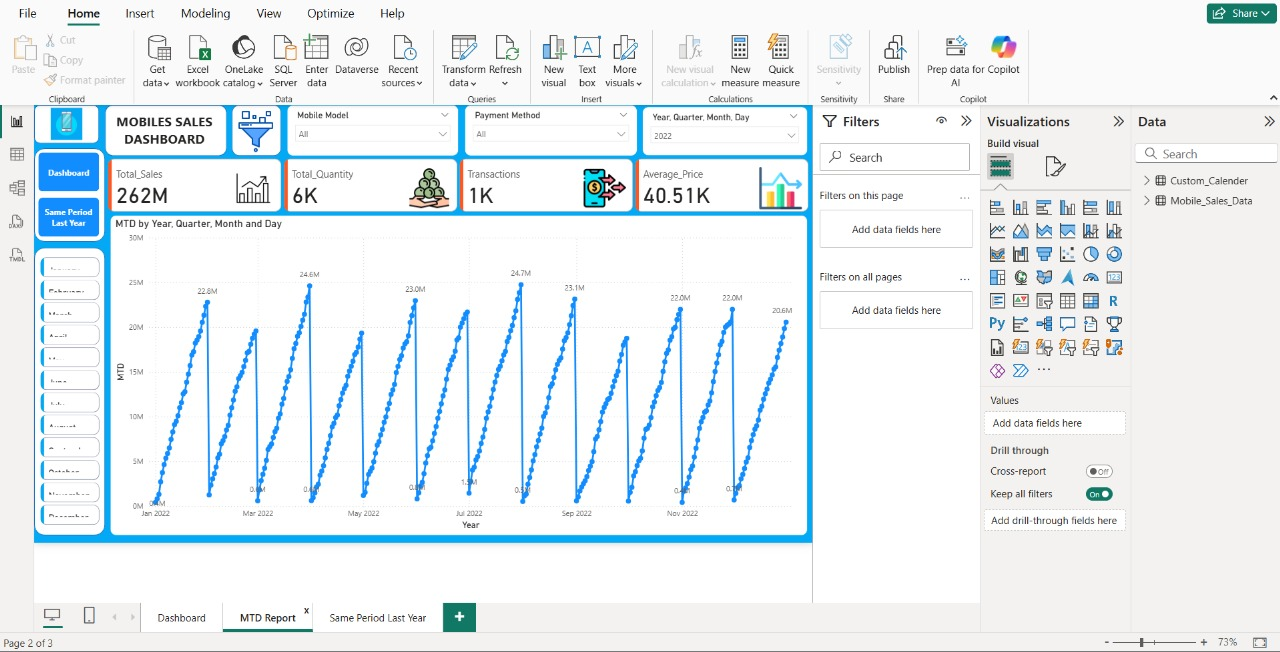

This screenshot's page, from the dashboard's own definition file:
{"tool":"powerbi","page":{"name":"MTD Report","canvas":[1280,720],"ordinal":1},"visuals":[{"type":"shape","box":[0,0,106.7,63.3],"z":0},{"type":"image","box":[0,0,106.7,62.2],"z":1000},{"type":"shape","box":[0,71.4,116.6,153.7],"z":2000},{"type":"cardVisual","fields":{"Data":["Mobile_Sales_Data.Total_Sales","Mobile_Sales_Data.Total_Quantity","Mobile_Sales_Data.Transactions","Mobile_Sales_Data.Average_Price"]},"box":[116.6,83.7,1163.6,97.4],"z":3000},{"type":"slicer","fields":{"Values":["Mobile_Sales_Data.Mobile Model"]},"box":[415.8,0,282.7,83.7],"z":4000},{"type":"slicer","fields":{"Values":["Mobile_Sales_Data.Payment Method"]},"box":[708.1,0,284,83.7],"z":5000},{"type":"slicer","fields":{"Values":["Custom_Calender.Date.Variation.Date Hierarchy.Year","Custom_Calender.Date.Variation.Date Hierarchy.Quarter","Custom_Calender.Date.Variation.Date Hierarchy.Month","Custom_Calender.Date.Variation.Date Hierarchy.Day"]},"box":[1000.3,2.7,271.7,81],"z":6000},{"type":"shape","box":[325.2,0,81,83.7],"z":7000},{"type":"image","box":[322.5,4.1,83.7,79.6],"z":8000},{"type":"shape","box":[116.2,0,200,83.8],"z":9000},{"type":"textbox","box":[125,6.2,178.8,68.8],"z":10000},{"type":"lineChart","fields":{"Y":["Mobile_Sales_Data.MTD"],"Category":["Custom_Calender.Date.Variation.Date Hierarchy.Year","Custom_Calender.Date.Variation.Date Hierarchy.Quarter","Custom_Calender.Date.Variation.Date Hierarchy.Month","Custom_Calender.Date.Variation.Date Hierarchy.Day"]},"box":[124.9,181.1,1147.2,526.9],"z":11000},{"type":"shape","box":[0,234.6,116.6,473.4],"z":12000},{"type":"advancedSlicerVisual","fields":{"Values":["Custom_Calender.Date.Variation.Date Hierarchy.Month"]},"box":[5.5,245.6,107,450.1],"z":13000},{"type":"pageNavigator","box":[6.9,78.2,100.2,140],"z":14000}]}

Visuals, with their boxes on the page's 1280x720 design canvas (x1, y1, x2, y2). These are canvas units, not pixel positions in the 1280x652 screenshot, which may show the page scaled, cropped or inside an application window:
shape: box(0, 0, 107, 63)
image: box(0, 0, 107, 62)
shape: box(0, 71, 117, 225)
cardVisual - Mobile_Sales_Data.Total_Sales x Mobile_Sales_Data.Total_Quantity: box(117, 84, 1280, 181)
slicer - Mobile_Sales_Data.Mobile Model: box(416, 0, 698, 84)
slicer - Mobile_Sales_Data.Payment Method: box(708, 0, 992, 84)
slicer - Custom_Calender.Date.Variation.Date Hierarchy.Year x Custom_Calender.Date.Variation.Date Hierarchy.Quarter: box(1000, 3, 1272, 84)
shape: box(325, 0, 406, 84)
image: box(322, 4, 406, 84)
shape: box(116, 0, 316, 84)
textbox: box(125, 6, 304, 75)
lineChart - Mobile_Sales_Data.MTD x Custom_Calender.Date.Variation.Date Hierarchy.Year: box(125, 181, 1272, 708)
shape: box(0, 235, 117, 708)
advancedSlicerVisual - Custom_Calender.Date.Variation.Date Hierarchy.Month: box(6, 246, 112, 696)
pageNavigator: box(7, 78, 107, 218)
